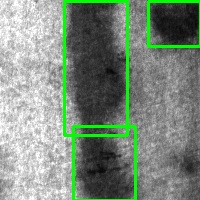patches: (64, 1, 127, 135), (73, 126, 135, 200), (148, 1, 200, 46)
